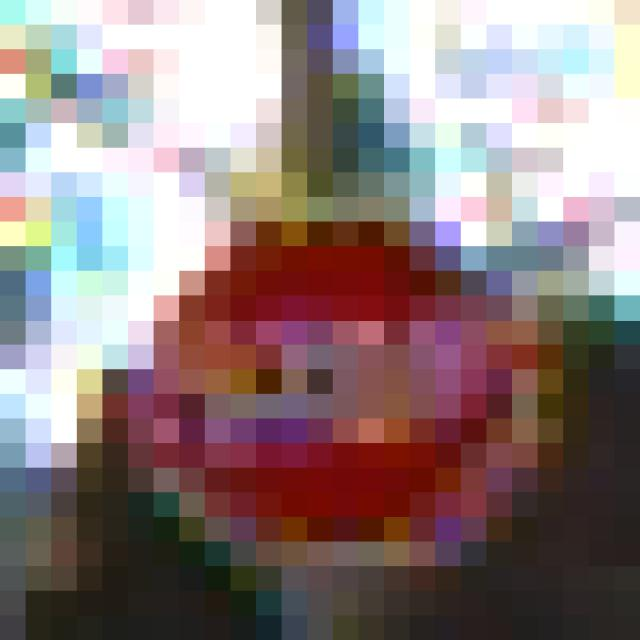STOP: (129, 124, 513, 518)
